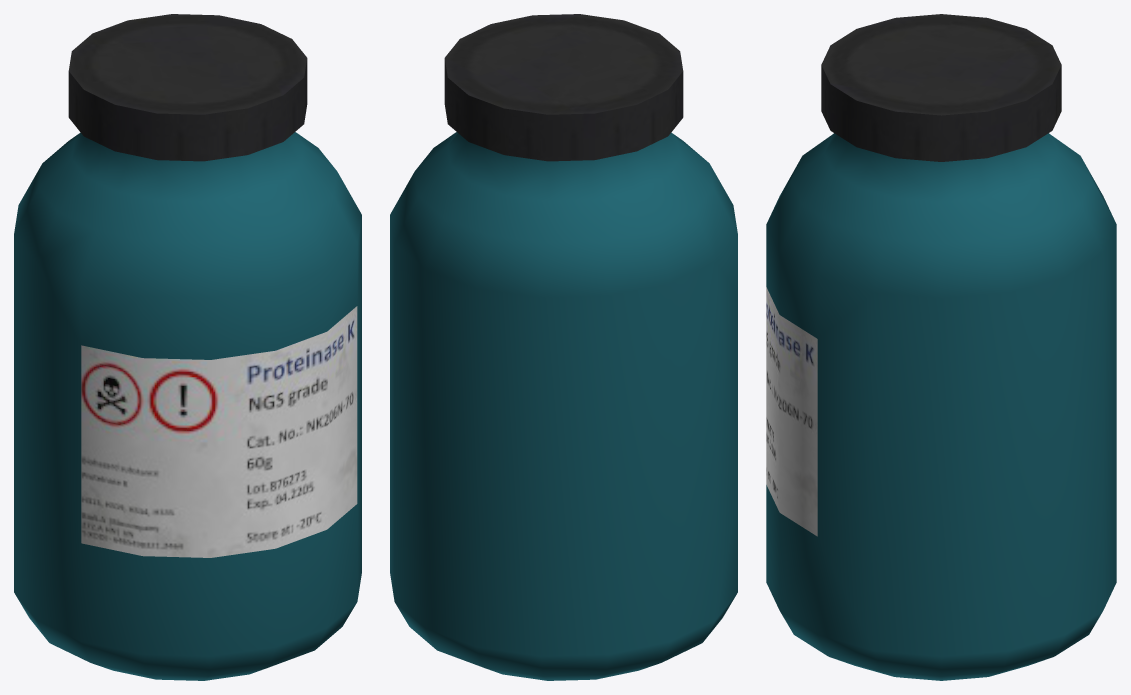
Rendered from SM_摆件药瓶_001.fbx.
The picture shows the model from 3 angles, left to right: view 1: azimuth 30°, elevation 25°; view 2: azimuth 150°, elevation 25°; view 3: azimuth 270°, elevation 25°; orthographic projection.
Visible parts, largest first — view 1: SM_摆件药瓶_001; view 2: SM_摆件药瓶_001; view 3: SM_摆件药瓶_001.
Part boxes in pixels (left/top/right/bottom): SM_摆件药瓶_001: left=14, top=14, right=361, bottom=680; SM_摆件药瓶_001: left=390, top=14, right=737, bottom=680; SM_摆件药瓶_001: left=766, top=14, right=1116, bottom=680.
Size of the model in its own units: 45.01 by 45.01 by 80.
